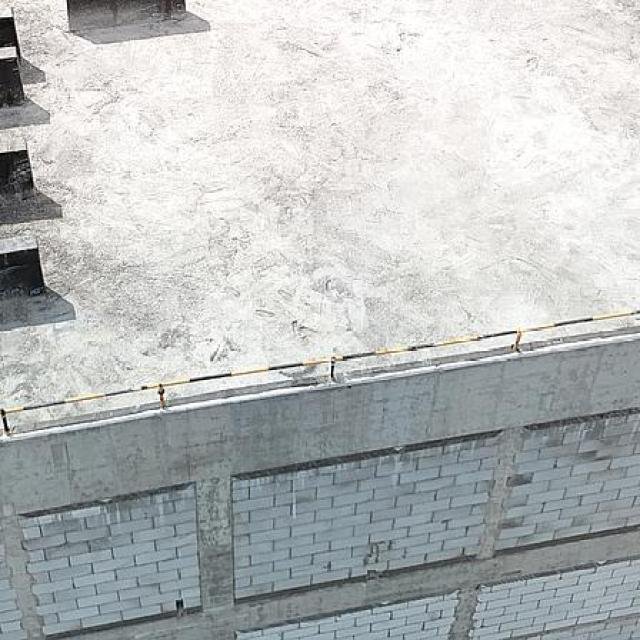edge_guardrail: (1, 307, 640, 434)
